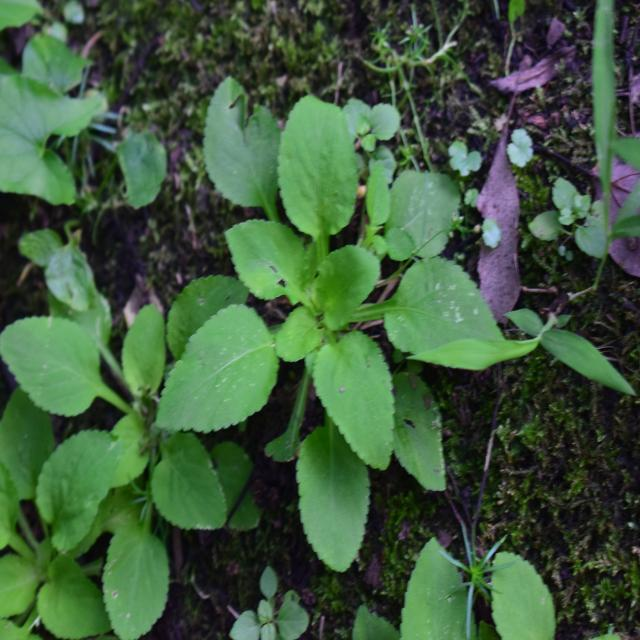Viola: (185, 97, 489, 524)
